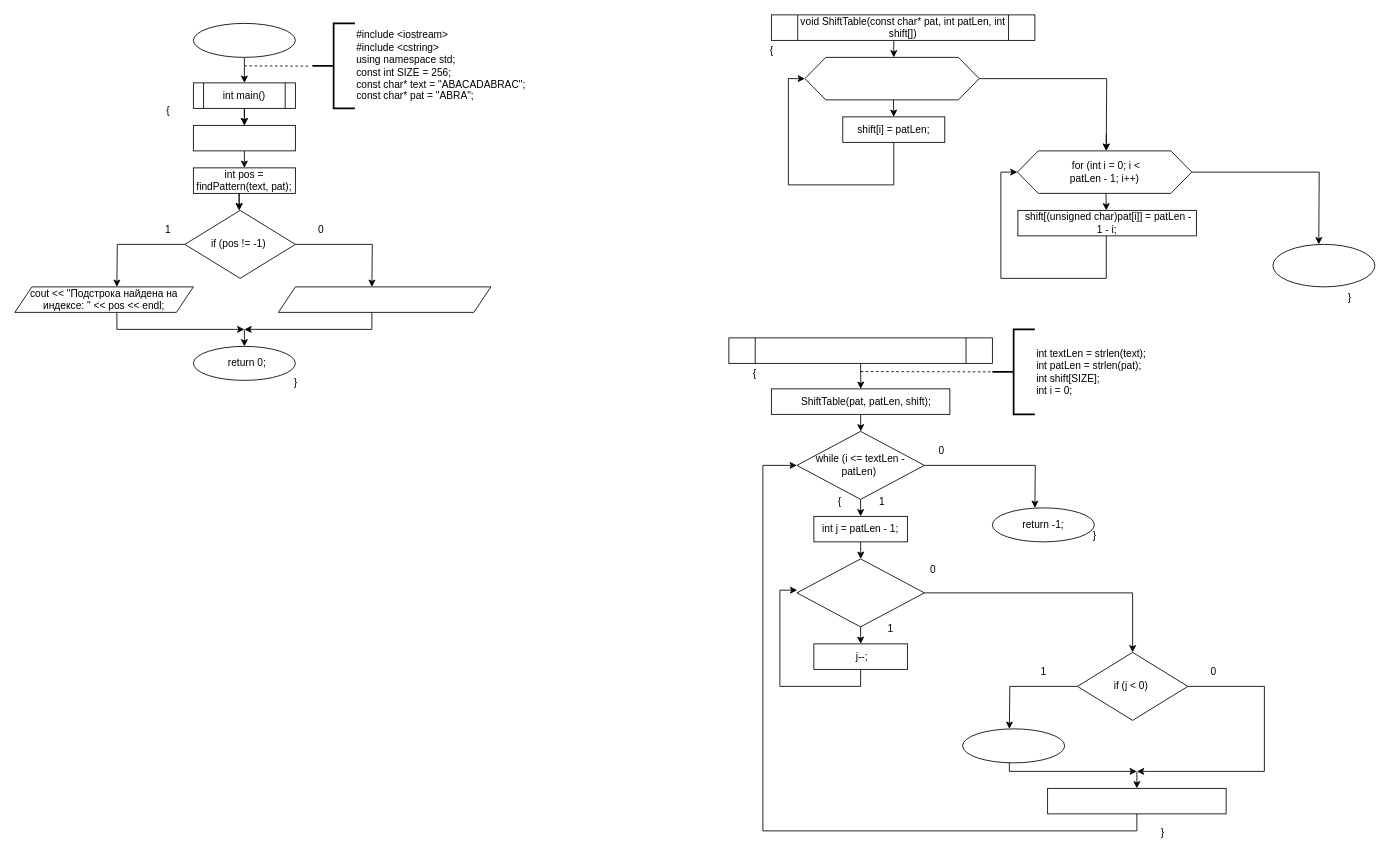
Some shapes in this 1390 by 861 pixel diagram are drawn without their labels. Each missing label, with the box of its shape:
cout << "Подстрока не найдена." << endl;: (278, 286, 491, 312)
for (int i = 0; i < SIZE; i++): (804, 57, 979, 100)
i += shift[(unsigned char)text[i + patLen - 1]];: (1047, 788, 1226, 814)
int findPattern(const char* text, const char* pat): (728, 337, 992, 363)
return i;: (962, 728, 1065, 763)
return;: (1272, 244, 1375, 287)
setlocale(LC_ALL, "Russian");: (193, 125, 295, 151)
while (j >= 0 && pat[j] == text[i + j]): (796, 558, 924, 627)
Начало: (193, 23, 295, 57)
